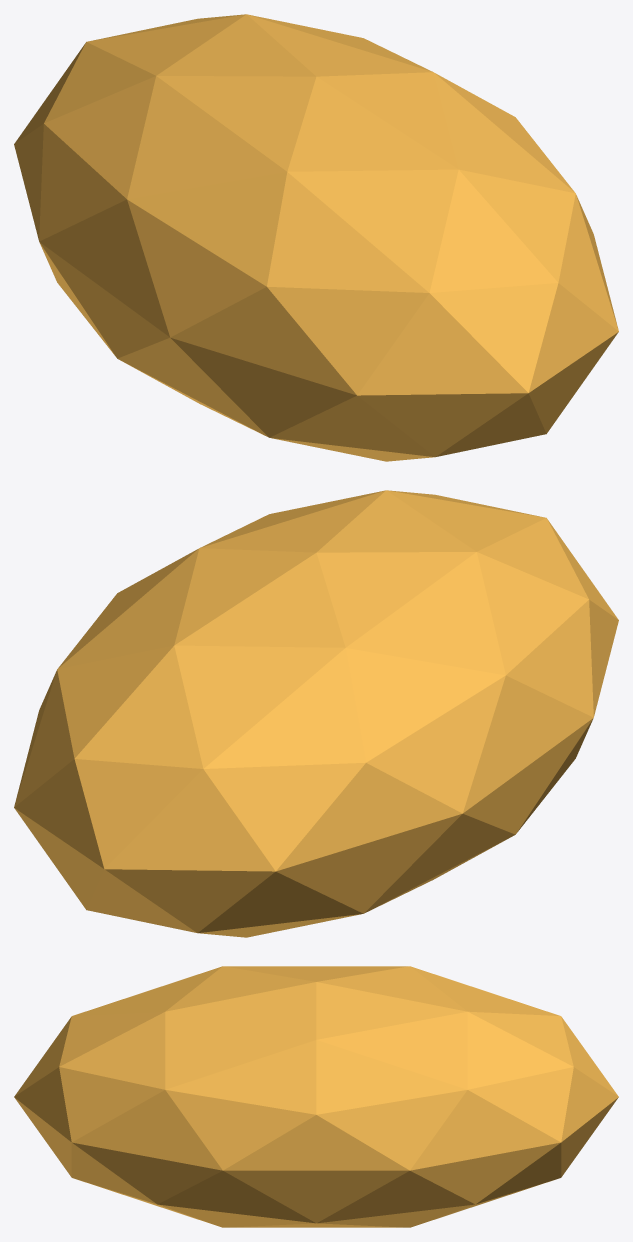
Rendered from light02.gltf.
3 renders of one model, top to bottom at view 1: azimuth 30°, elevation 25°; view 2: azimuth 150°, elevation 25°; view 3: azimuth 270°, elevation 25°, orthographic. The views are drawn at different scales.
Parts seen in each view (by area): view 1: Icosphere.001; view 2: Icosphere.001; view 3: Icosphere.001.
Part boxes in pixels (x1,y1,x2,y2): Icosphere.001: [14, 14, 618, 461]; Icosphere.001: [14, 490, 618, 937]; Icosphere.001: [14, 966, 618, 1227].
Size of the model in its own units: 0.5563 by 0.4049 by 0.9649.
